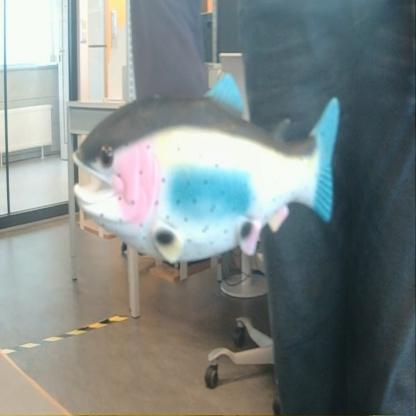rubberfish: (56, 65, 346, 268)
